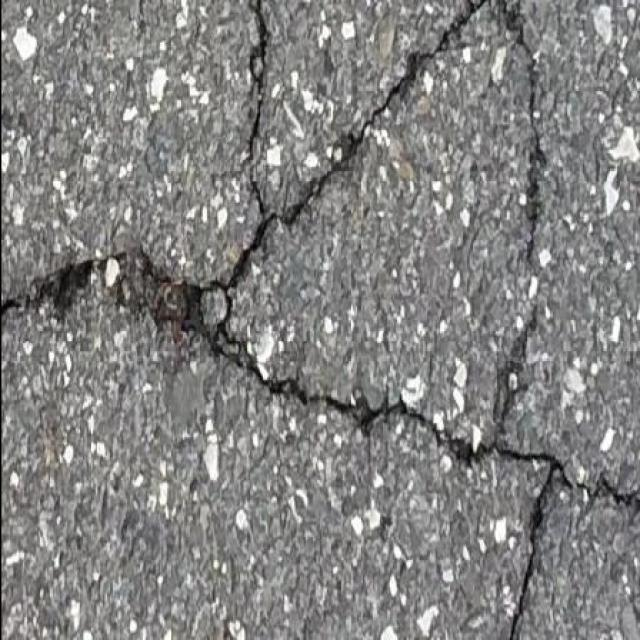Crack: (0, 262, 640, 612), (243, 0, 535, 252)
